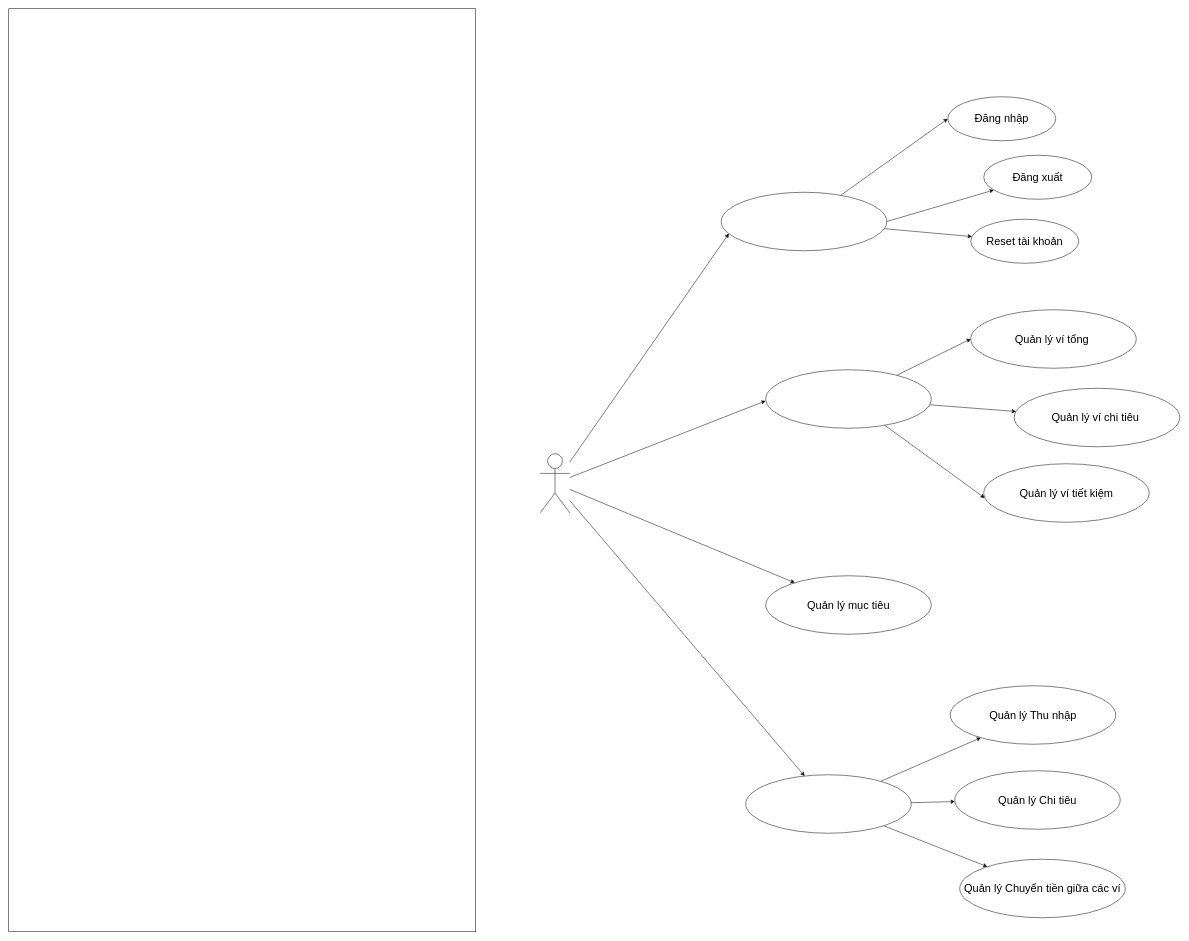
Image size: 1189x941. Some labels were removed from this diagram. Each missing label, with the centre of its shape:
"Người dùng" belongs at (x=555, y=483).
"Quản lý giao dịch" belongs at (x=828, y=803).
"Quản lý tài khoản người dùng" belongs at (x=804, y=221).
"Quản lý ví cá nhân" belongs at (x=848, y=398).
